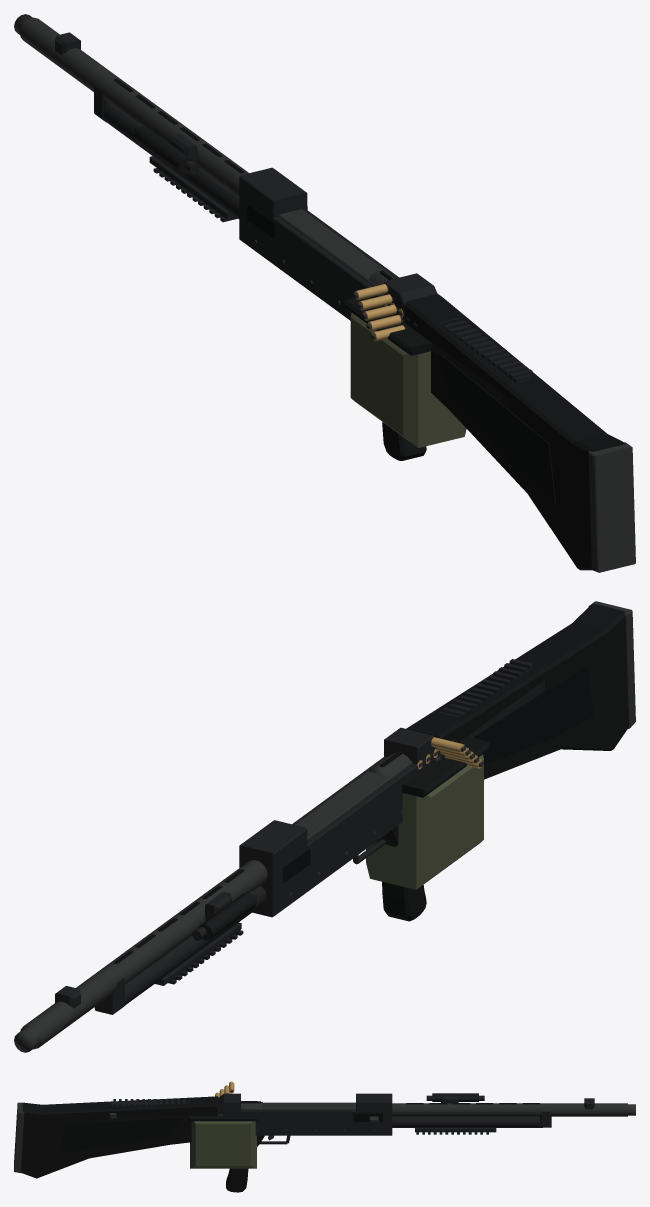
File: weapon-26-ClEvkmDx.glb
3 views of the same model, one above another, from view 1: azimuth 30°, elevation 25°; view 2: azimuth 150°, elevation 25°; view 3: azimuth 270°, elevation 25° (orthographic). The views are drawn at different scales.
Parts seen in each view (by area): view 1: salient_weapon_body, salient_weapon_magazine, salient_weapon_cover; view 2: salient_weapon_body, salient_weapon_magazine, salient_weapon_cover; view 3: salient_weapon_body, salient_weapon_magazine, salient_weapon_cover.
Boxes of the visible parts, x1,y1,x2,y2 form: salient_weapon_body: (14,14,635,572); salient_weapon_magazine: (344,284,466,447); salient_weapon_cover: (401,317,532,407); salient_weapon_body: (14,601,635,1052); salient_weapon_magazine: (366,737,489,889); salient_weapon_cover: (435,659,544,760); salient_weapon_body: (14,1093,635,1192); salient_weapon_magazine: (189,1081,257,1168); salient_weapon_cover: (109,1099,222,1120).
Size of the model in its own units: 0.089 by 0.18 by 1.07.
